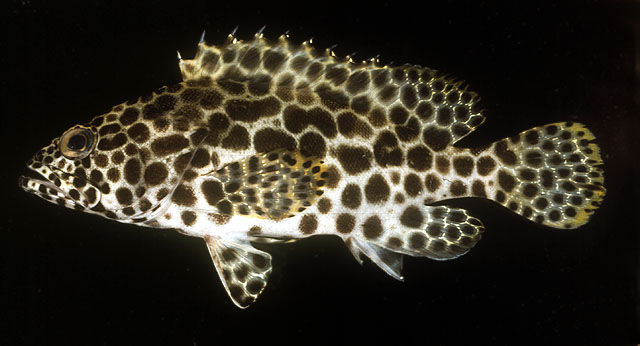fish: (20, 26, 607, 310)
